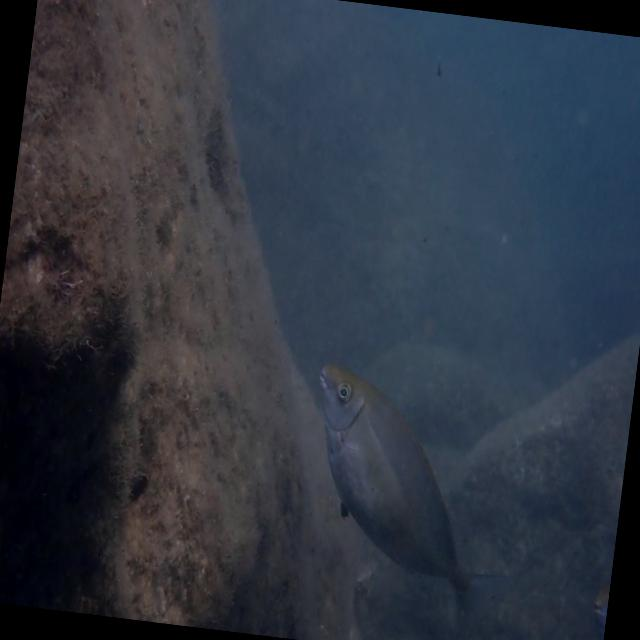Sokar Baligi: (278, 345, 546, 640)
